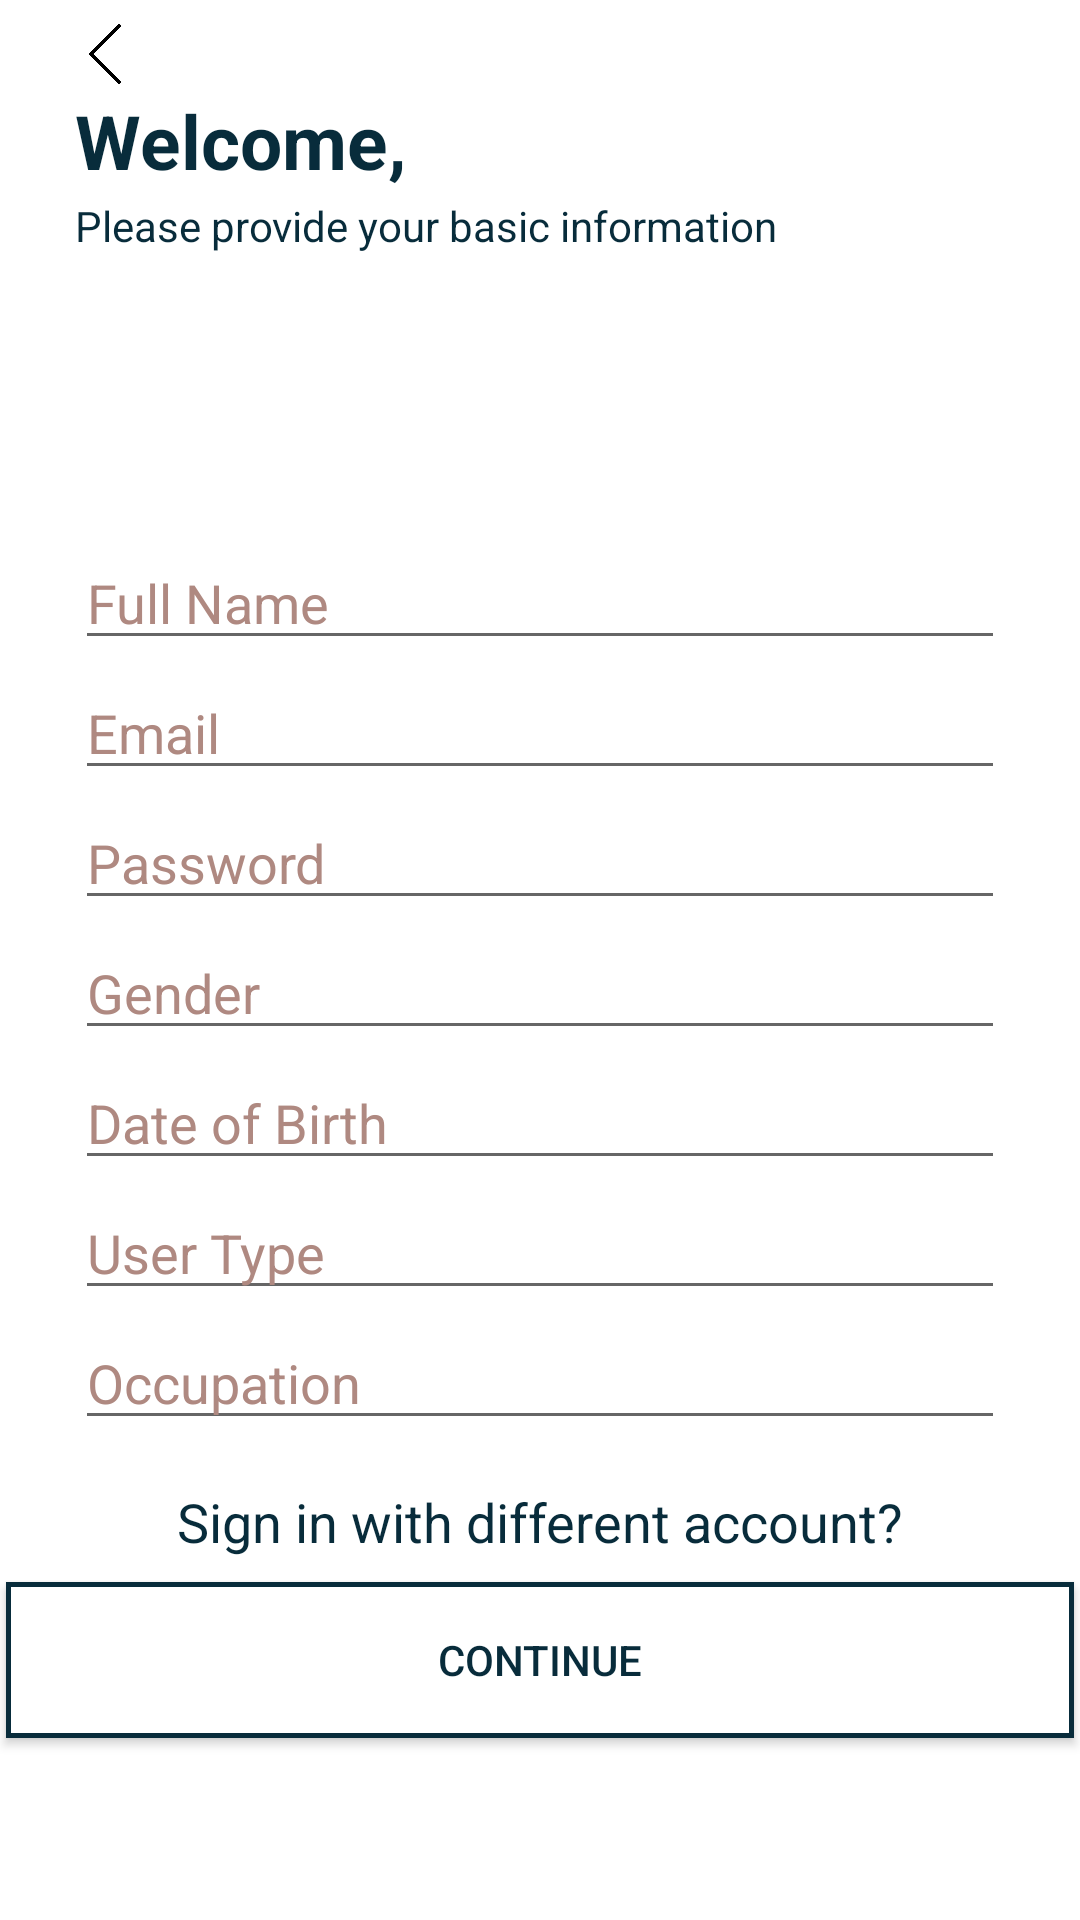

Icons on this 1080 x 1920 Android screen, each with its box as (x1, y1, x2, y2):
back: (89, 24, 121, 84)
